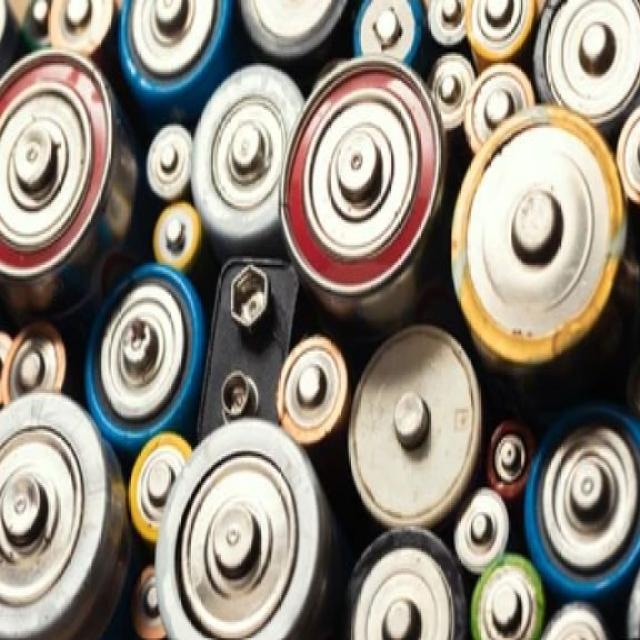electronic: (265, 41, 459, 320)
